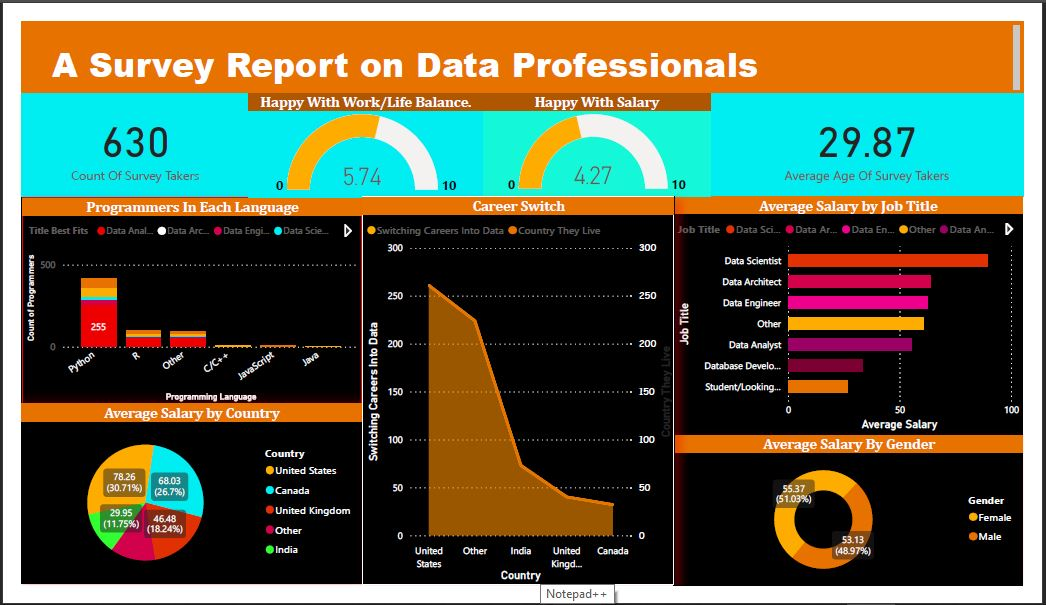

The dashboard page shown, as its layout file describes it:
{"tool":"powerbi","page":{"name":"Page 1","canvas":[1280,720],"ordinal":0},"visuals":[{"type":"textbox","box":[10,0,280,280],"z":0},{"type":"textbox","box":[10,290,280,280],"z":1000},{"type":"textbox","box":[10,570,280,150],"z":2000},{"type":"textbox","box":[300,0,280,280],"z":3000},{"type":"textbox","box":[300,290,280,280],"z":4000},{"type":"textbox","box":[300,570,280,150],"z":5000},{"type":"textbox","box":[590,0,280,280],"z":6000},{"type":"textbox","box":[590,290,280,280],"z":7000},{"type":"textbox","box":[590,570,280,150],"z":8000},{"type":"textbox","box":[880,0,280,280],"z":9000},{"type":"textbox","box":[880,290,280,280],"z":10000},{"type":"textbox","box":[880,570,280,150],"z":11000},{"type":"textbox","box":[0,0,1280,91.8],"z":12000},{"type":"card","fields":{"Values":["Count(Data Professional Survey.Unique ID)"]},"box":[0,91.3,289.9,133.3],"z":13000},{"type":"card","fields":{"Values":["Avg(Data Professional Survey.Q10 - Current Age)"]},"box":[879.7,91.3,401.4,131.9],"z":14000},{"type":"barChart","title":"Average Salary by Job Title","fields":{"Category":["Data Professional Survey.Q1 - Which Title Best Fits your Current Role?.1"],"Y":["Avg(Data Professional Survey.Average Salary)"],"Series":["Data Professional Survey.Q1 - Which Title Best Fits your Current Role?.1"]},"box":[833.3,223.2,446.4,304.3],"z":15000},{"type":"columnChart","title":" Programmers In Each Language","fields":{"Category":["Data Professional Survey.Q5 - Favorite Programming Language.1"],"Y":["Count(Data Professional Survey.Unique ID)"],"Series":["Data Professional Survey.Q1 - Which Title Best Fits your Current Role?.1"]},"box":[0,224.6,434.8,263.8],"z":16000},{"type":"pieChart","fields":{"Y":["Avg(Data Professional Survey.Average Salary)"],"Category":["Data Professional Survey.Q11 - Which Country do you live in?.1"]},"box":[0,488.4,434.8,230.4],"z":17000},{"type":"gauge","title":"Happy With Work/Life Balance.","fields":{"Y":["Avg(Data Professional Survey.Q6 - How Happy are you in your Current Position with the following? (Work/Life Balance))"],"MinValue":["Min(Data Professional Survey.Q6 - How Happy are you in your Current Position with the following? (Work/Life Balance))1"],"MaxValue":["Max(Data Professional Survey.Q6 - How Happy are you in your Current Position with the following? (Work/Life Balance))2"]},"box":[289.9,91.3,300,133.3],"z":18000},{"type":"gauge","title":"Happy With Salary","fields":{"Y":["Avg(Data Professional Survey.Q6 - How Happy are you in your Current Position with the following? (Salary))"],"MinValue":["Min(Data Professional Survey.Q6 - How Happy are you in your Current Position with the following? (Salary))"],"MaxValue":["Max(Data Professional Survey.Q6 - How Happy are you in your Current Position with the following? (Salary))"]},"box":[589.9,91.3,289.9,131.9],"z":19000},{"type":"donutChart","title":"Average Salary By Gender","fields":{"Category":["Data Professional Survey.Q9 - Male/Female?"],"Y":["Avg(Data Professional Survey.Average Salary)"]},"box":[833.3,527.5,446.4,192.8],"z":20000},{"type":"areaChart","title":"Career Switch","fields":{"Category":["Data Professional Survey.Q11 - Which Country do you live in?.1"],"Y":["CountNonNull(Data Professional Survey.Q2 - Did you switch careers into Data?)"],"Y2":["CountNonNull(Data Professional Survey.Q11 - Which Country do you live in?.1)"]},"box":[434.6,223.1,398.7,496.2],"z":21000}]}

Visuals, with their boxes on the page's 1280x720 design canvas (x1, y1, x2, y2). These are canvas units, not pixel positions in the 1046x605 screenshot, which may show the page scaled, cropped or inside an application window:
textbox: rect(10, 0, 290, 280)
textbox: rect(10, 290, 290, 570)
textbox: rect(10, 570, 290, 720)
textbox: rect(300, 0, 580, 280)
textbox: rect(300, 290, 580, 570)
textbox: rect(300, 570, 580, 720)
textbox: rect(590, 0, 870, 280)
textbox: rect(590, 290, 870, 570)
textbox: rect(590, 570, 870, 720)
textbox: rect(880, 0, 1160, 280)
textbox: rect(880, 290, 1160, 570)
textbox: rect(880, 570, 1160, 720)
textbox: rect(0, 0, 1280, 92)
card - Count(Data Professional Survey.Unique ID): rect(0, 91, 290, 225)
card - Avg(Data Professional Survey.Q10 - Current Age): rect(880, 91, 1281, 223)
"Average Salary by Job Title" barChart: rect(833, 223, 1280, 528)
" Programmers In Each Language" columnChart: rect(0, 225, 435, 488)
pieChart - Avg(Data Professional Survey.Average Salary) x Data Professional Survey.Q11 - Which Country do you live in?.1: rect(0, 488, 435, 719)
"Happy With Work/Life Balance." gauge: rect(290, 91, 590, 225)
"Happy With Salary" gauge: rect(590, 91, 880, 223)
"Average Salary By Gender" donutChart: rect(833, 528, 1280, 720)
"Career Switch" areaChart: rect(435, 223, 833, 719)
